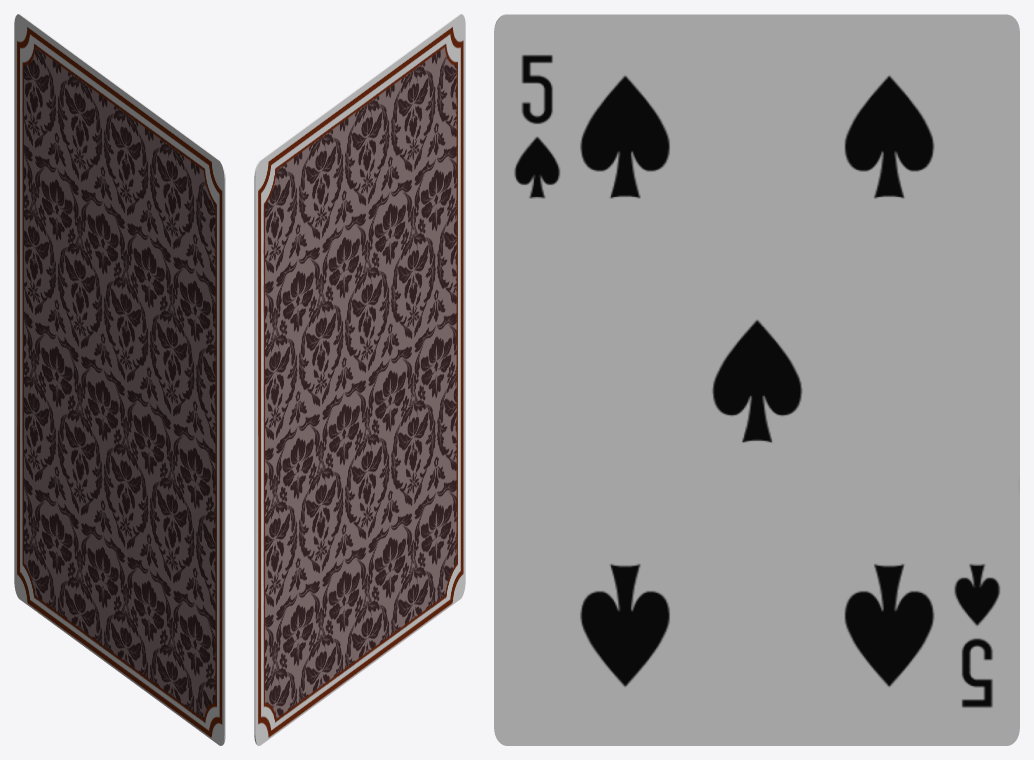
Rendered from spade5.glb.
The picture shows the model from 3 angles, left to right: view 1: azimuth 30°, elevation 25°; view 2: azimuth 150°, elevation 25°; view 3: azimuth 270°, elevation 25°; orthographic projection. The views are drawn at different scales.
Visible parts, largest first — view 1: Cube; view 2: Cube; view 3: Cube.
Boxes of the visible parts, <box> form: Cube: <box>14,14,225,745</box>; Cube: <box>254,14,465,745</box>; Cube: <box>494,14,1019,745</box>.
Bounding box in the file's own units: 0.036 × 17.8 × 11.6.
1 material, 1 textured.
